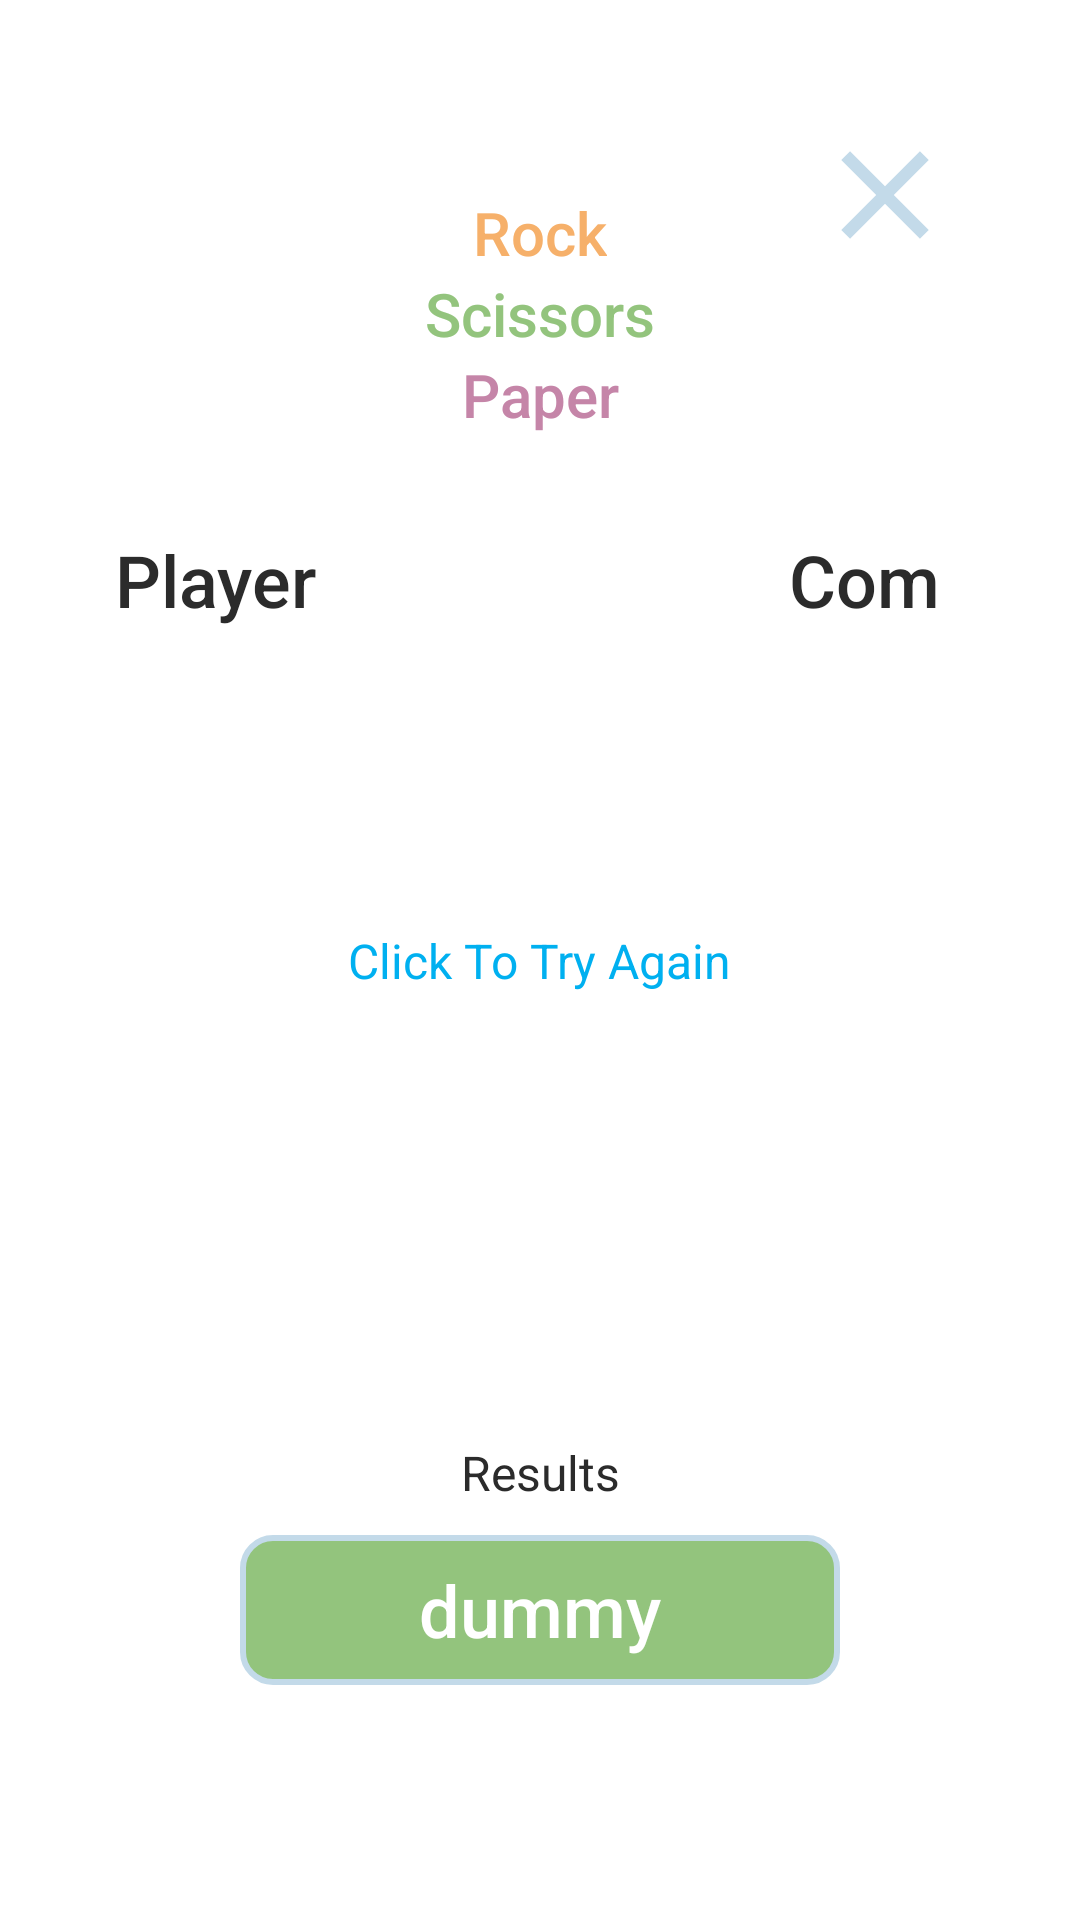

Icons on this 1080px x 1920px Android screen, each with the point to tap as (x=x, y=y):
Exit: (x=885, y=195)
